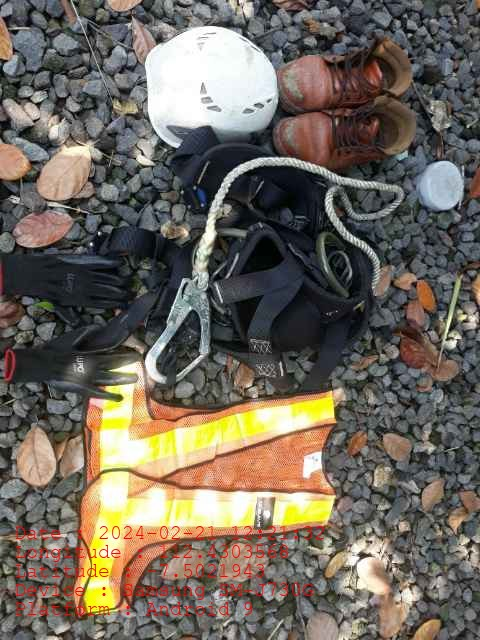HELM: (145, 27, 278, 151)
SARUNG_TANGAN: (1, 322, 134, 405), (1, 249, 131, 327)
SEPATU: (276, 38, 420, 168)
